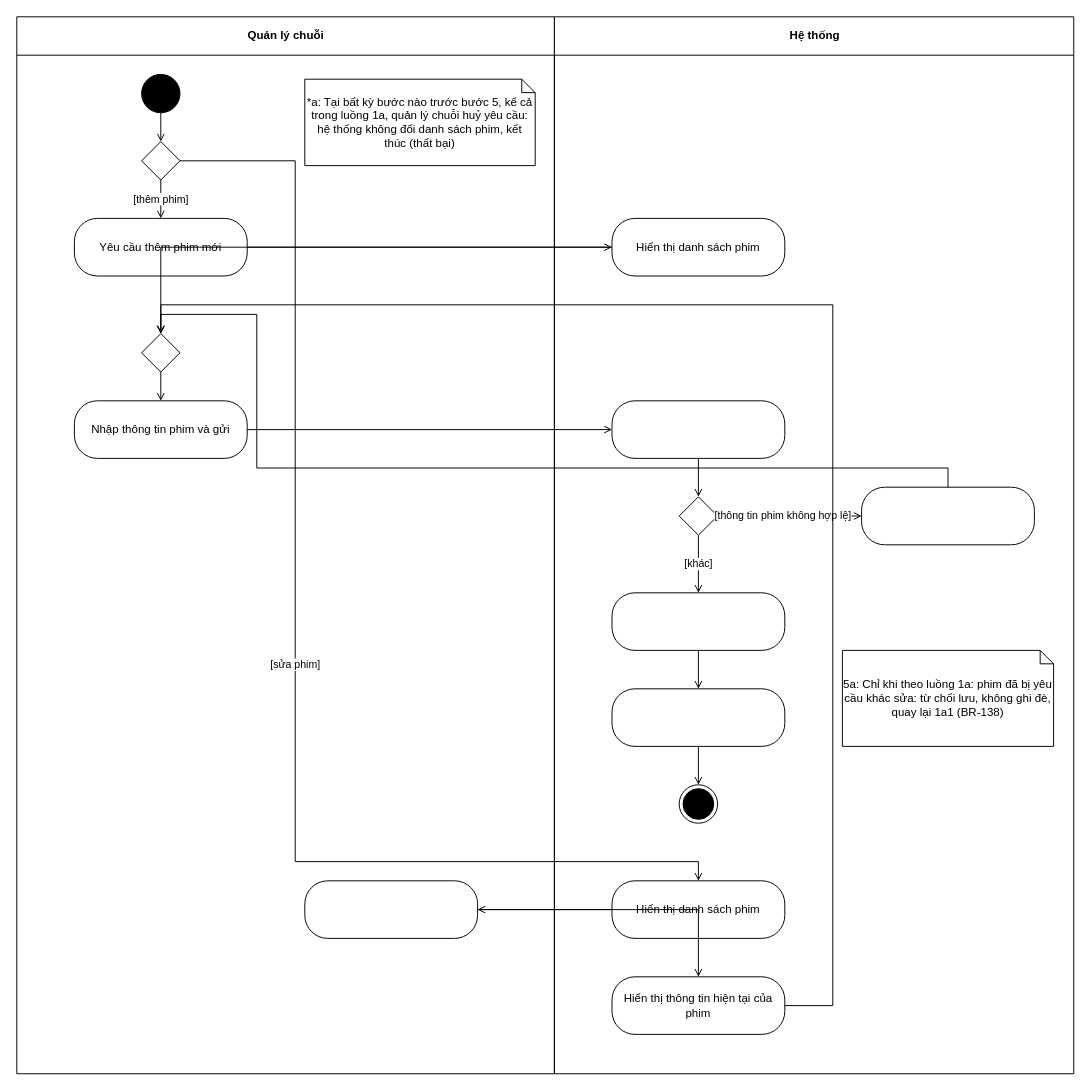
This 1091x1091 diagram has some shape labels left out. Each missing label, with the box of its shape:
Chọn phim cần sửa: (304, 880, 478, 938)
Kiểm tra thông tin phim hợp lệ: (611, 400, 785, 458)
Lưu thông tin phim: (611, 592, 785, 650)
Thông báo lưu phim thành công: (611, 688, 785, 746)
Từ chối: thông tin phim không hợp lệ: (861, 486, 1034, 545)
